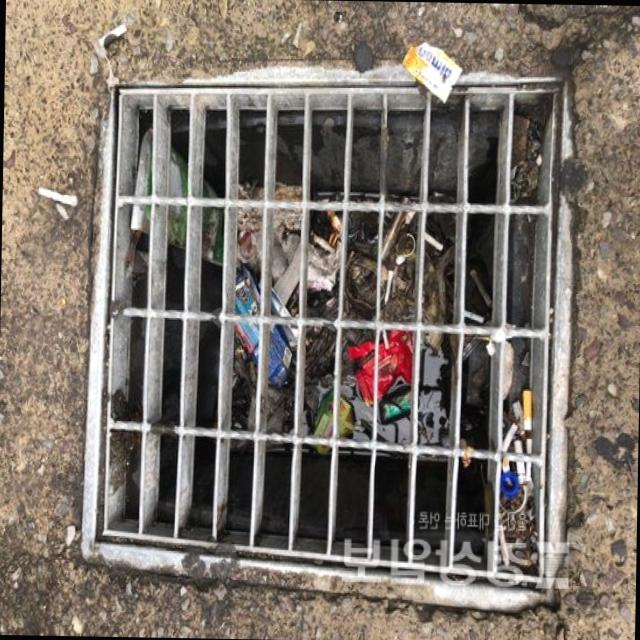drain_area: (105, 242, 483, 560), (194, 164, 500, 313)
drain_full: (103, 88, 557, 580)
